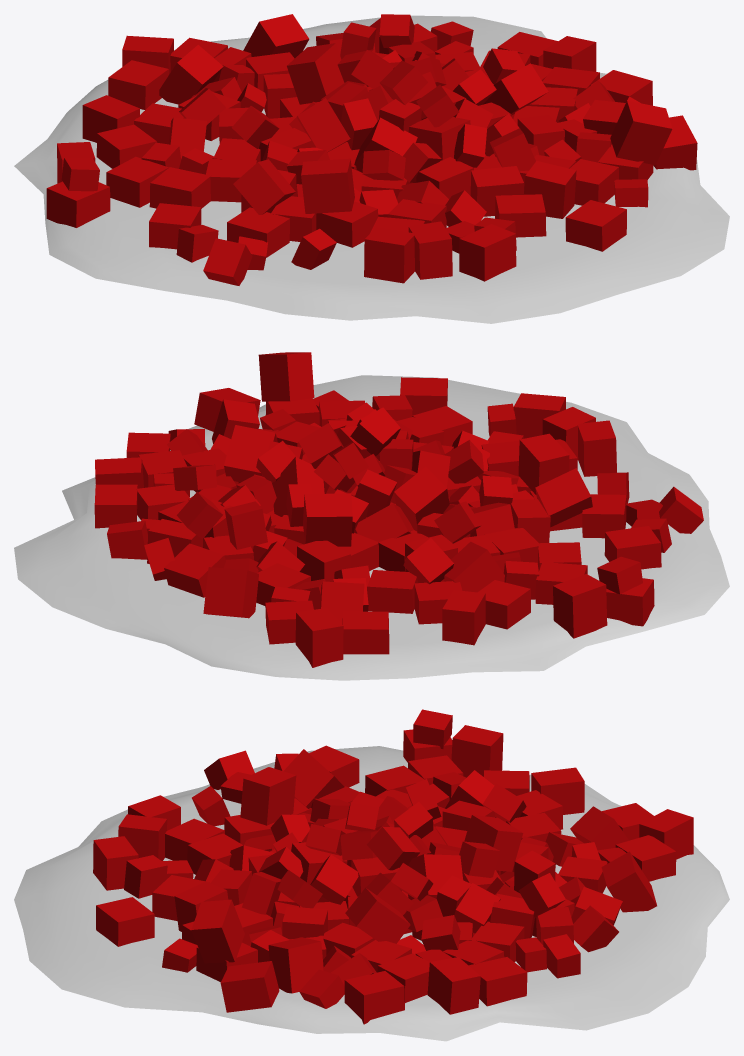
Rendered from TomatoDiced 2.fbx.
The picture shows the model from 3 angles, top to bottom: view 1: azimuth 30°, elevation 25°; view 2: azimuth 150°, elevation 25°; view 3: azimuth 270°, elevation 25°; orthographic projection. The views are drawn at different scales.
Visible parts, largest first — view 1: Icosphere.050; view 2: Icosphere.050; view 3: Icosphere.050.
Part boxes in pixels (x1,y1,x2,y2): Icosphere.050: (14, 14, 729, 323); Icosphere.050: (14, 352, 729, 680); Icosphere.050: (14, 709, 729, 1041).
Size of the model in its own units: 216 by 39.22 by 222.
